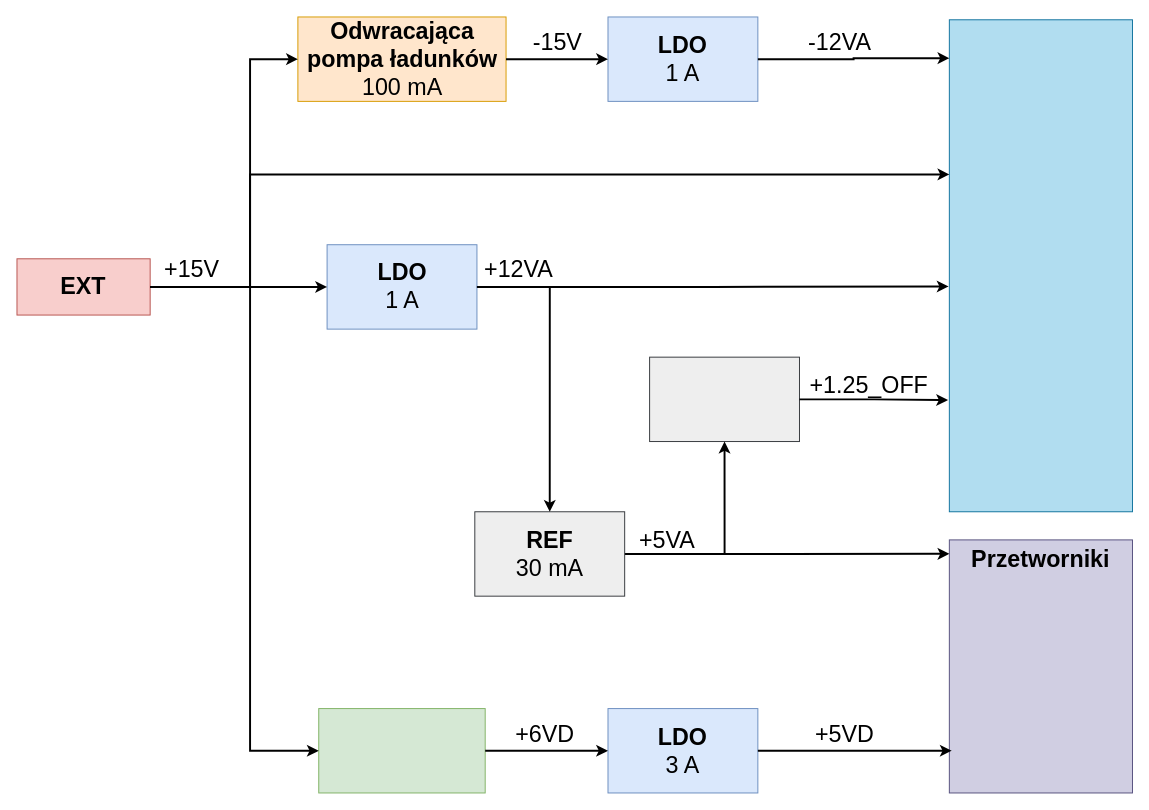
Some shapes in this 1149 by 810 pixel diagram are drawn without their labels. The shapes that lost their labels are listed below. From the top down, each one's centre as x and y in pixels, then its label:
point (1040, 265): Tory analogowe
point (724, 399): REF 40 uA
point (401, 750): SMPS 3 A
